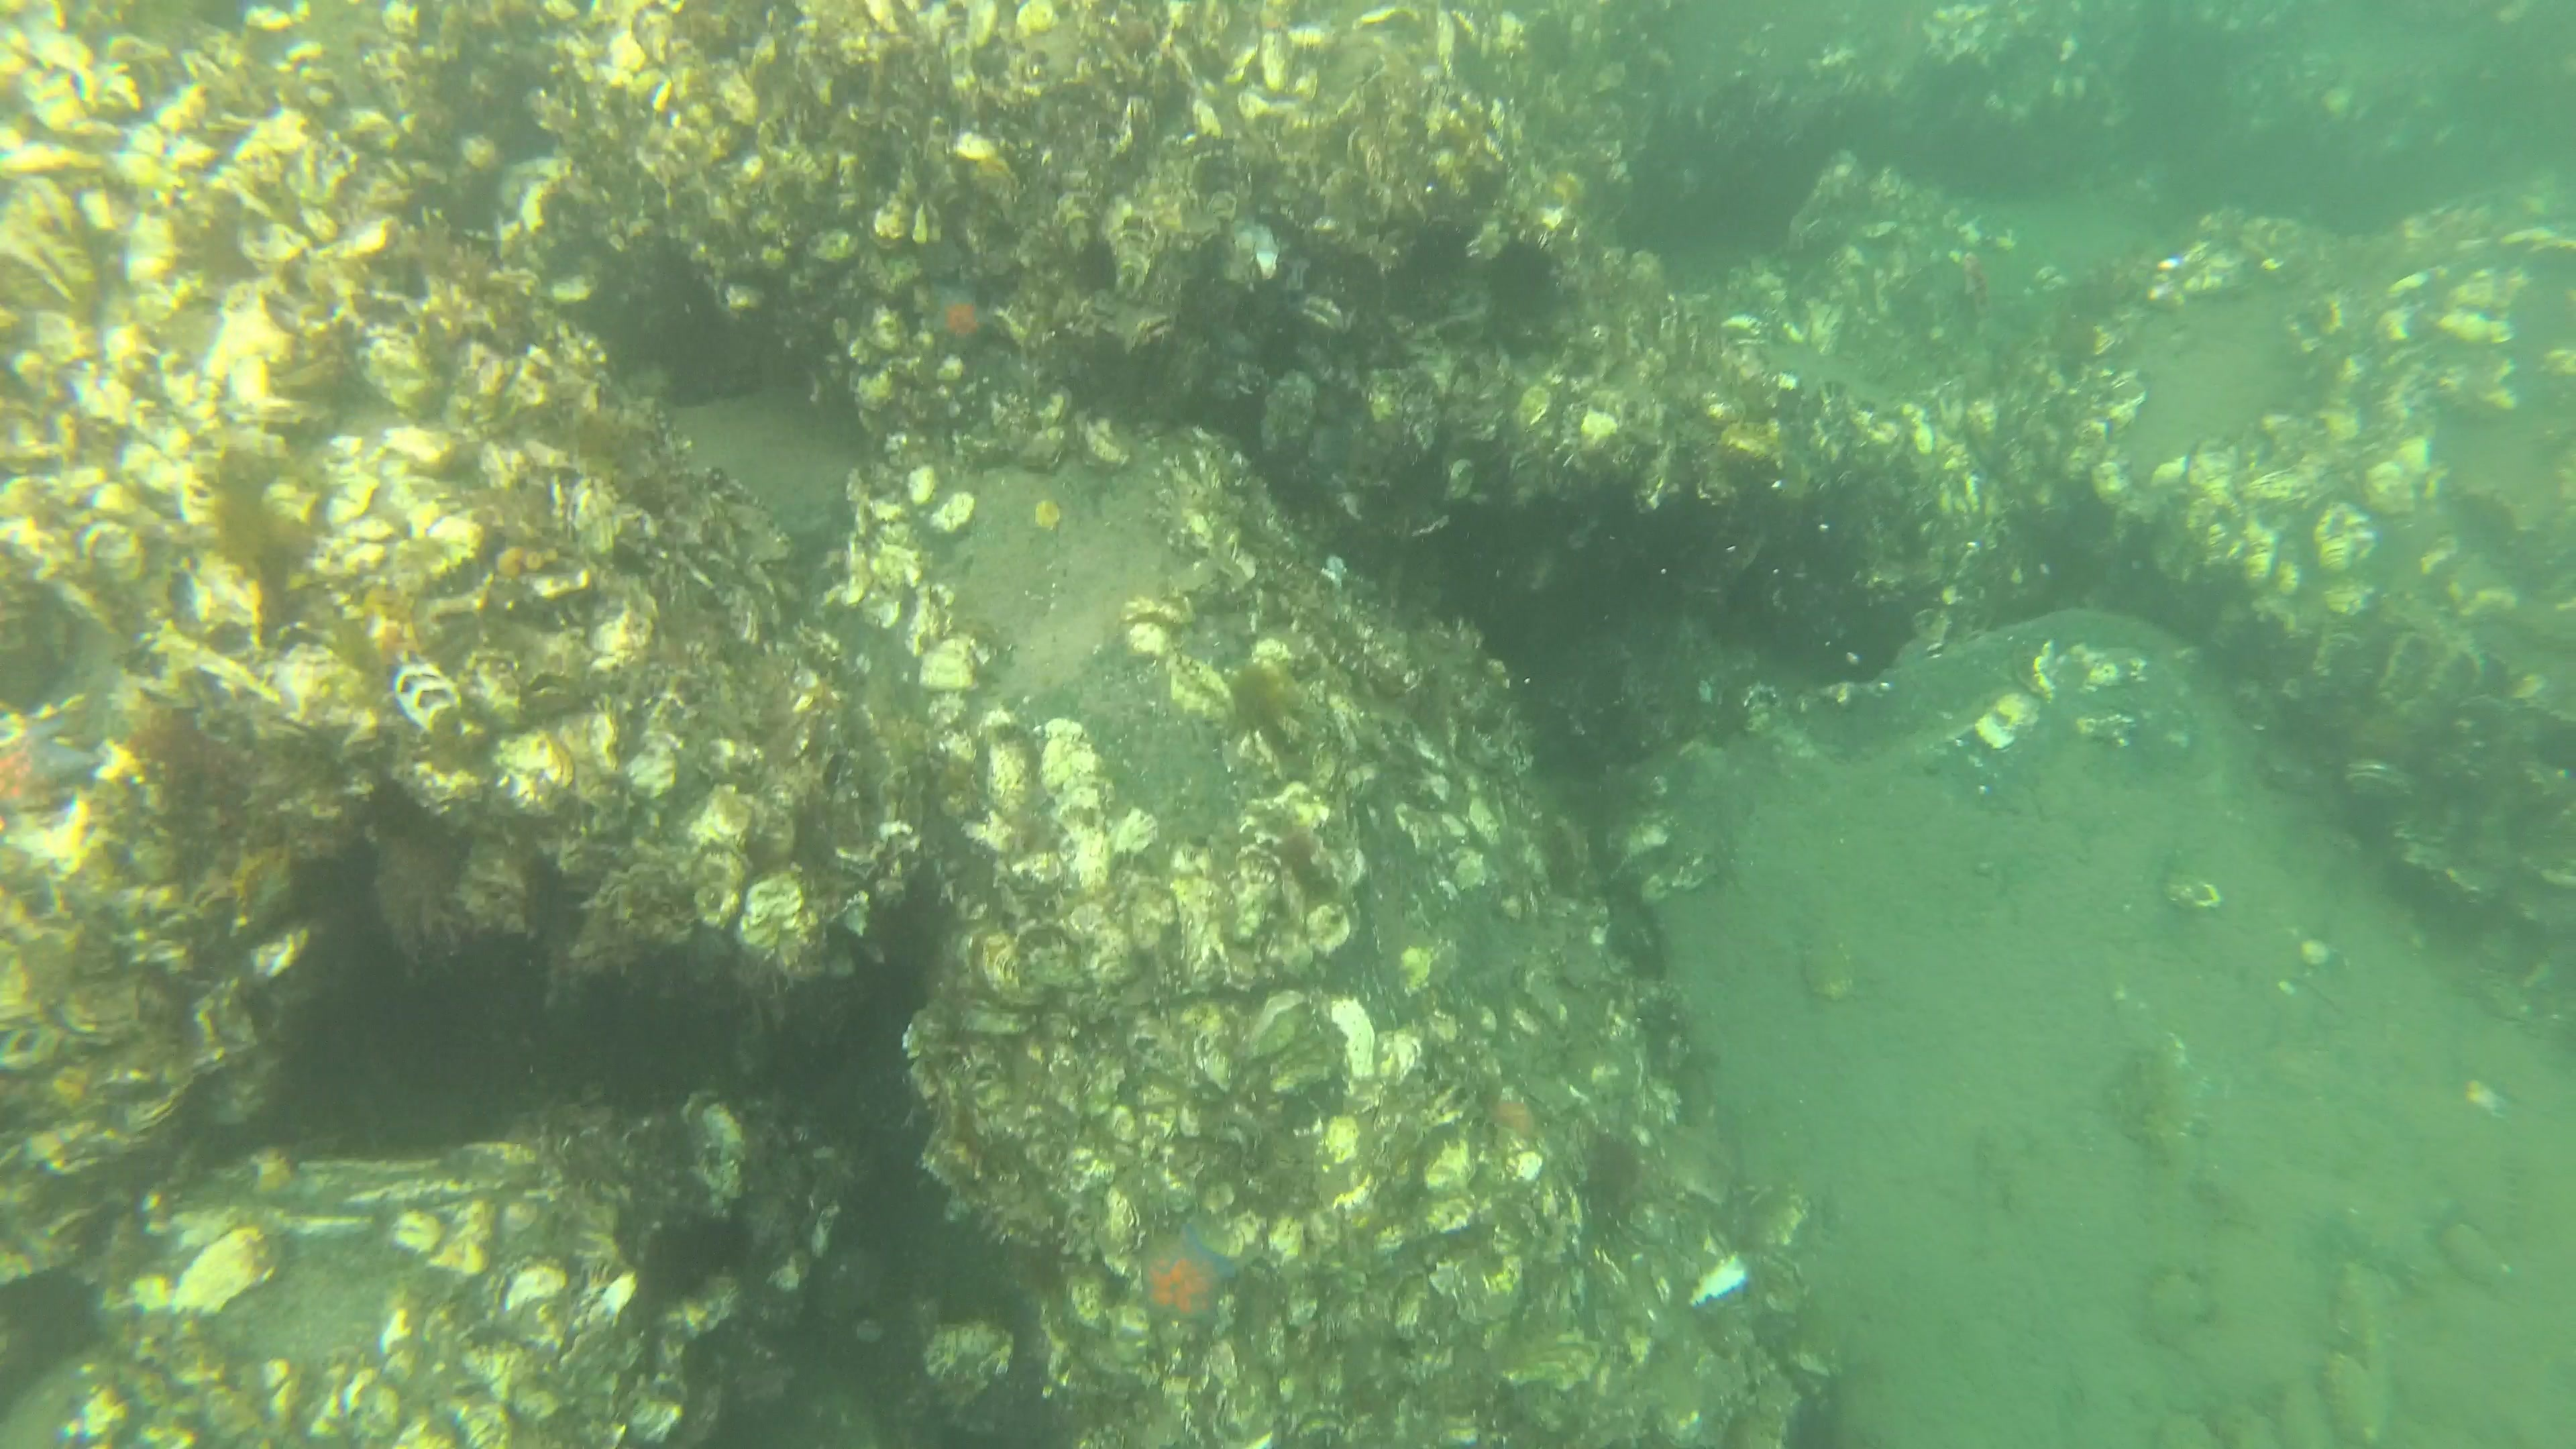echinus: (1479, 225, 1566, 317), (630, 1215, 718, 1302)
starfish: (1123, 1221, 1246, 1334), (5, 720, 101, 821), (911, 274, 1008, 363)
